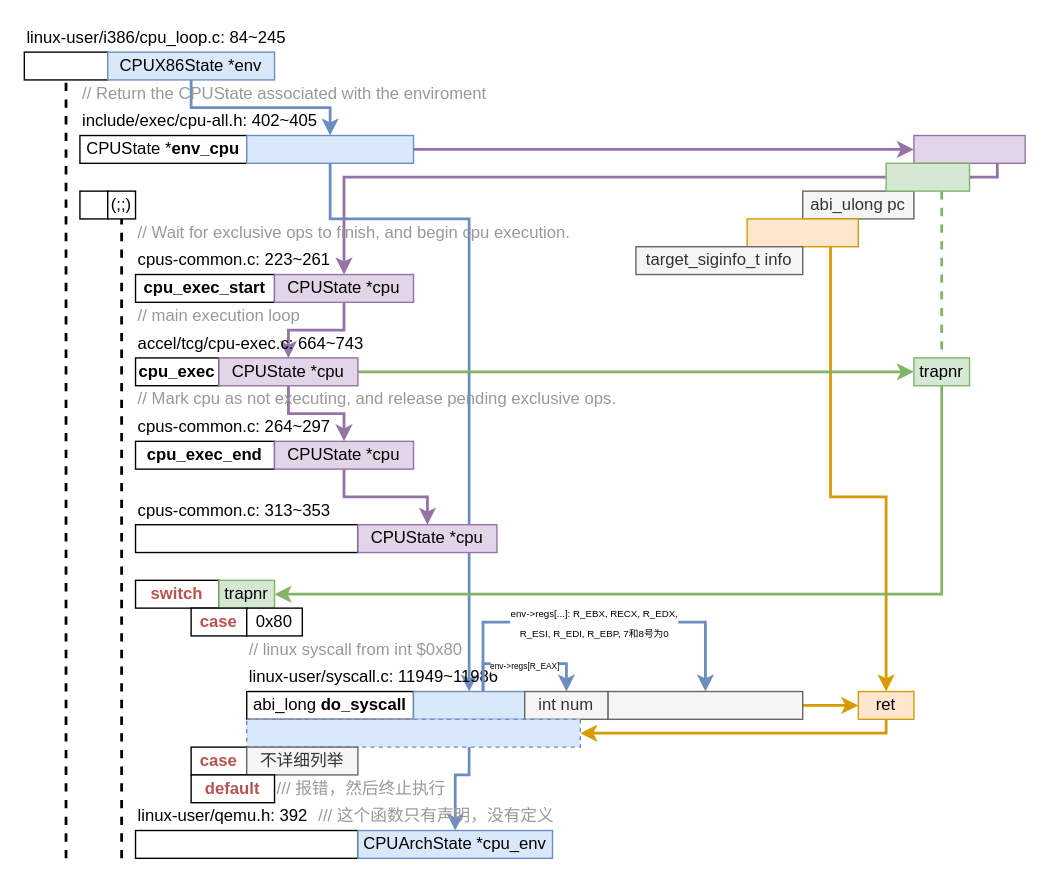
Some shapes in this 1049 by 884 pixel diagram are drawn without their labels. The box of each missing label's shape, as (x1, y1, x2, y2) in pixels:
abi_long arg1, ..., arg8: (607, 690, 803, 719)
abi_ulong ret: (746, 218, 858, 247)
cpu_loop: (23, 51, 108, 80)
CPUArchState *env: (245, 134, 414, 163)
CPUState *cs: (913, 134, 1025, 163)
for: (79, 190, 108, 219)
int trapnr: (885, 162, 970, 191)
process_pending_signals: (134, 829, 358, 858)
process_queued_cpu_work: (134, 523, 358, 553)
void *cpu_env: (412, 690, 525, 719)
若不出错的话将ret写到env->regs[R_EAX]里: (245, 718, 580, 747)
